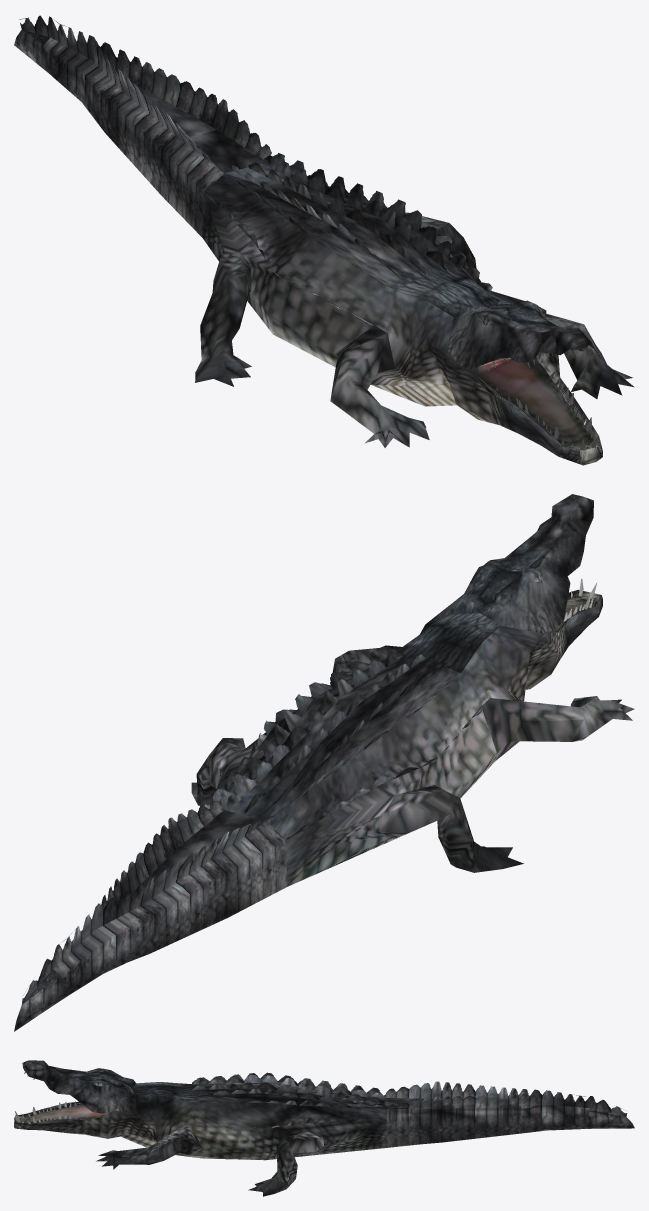
The model's file is Croc.glb.
3 renders of one model, top to bottom at view 1: azimuth 30°, elevation 25°; view 2: azimuth 150°, elevation 25°; view 3: azimuth 270°, elevation 25°, orthographic. The views are drawn at different scales.
Parts seen in each view (by area): view 1: _Croc; view 2: _Croc; view 3: _Croc.
Part boxes in pixels (x1=…): _Croc: x1=14, y1=15, x2=634, y2=465; _Croc: x1=14, y1=494, x2=634, y2=1031; _Croc: x1=14, y1=1060, x2=634, y2=1196.
Bounding box in the file's own units: 1.35 × 0.6541 × 4.05.
Materials: 3 (3 with a texture image).
